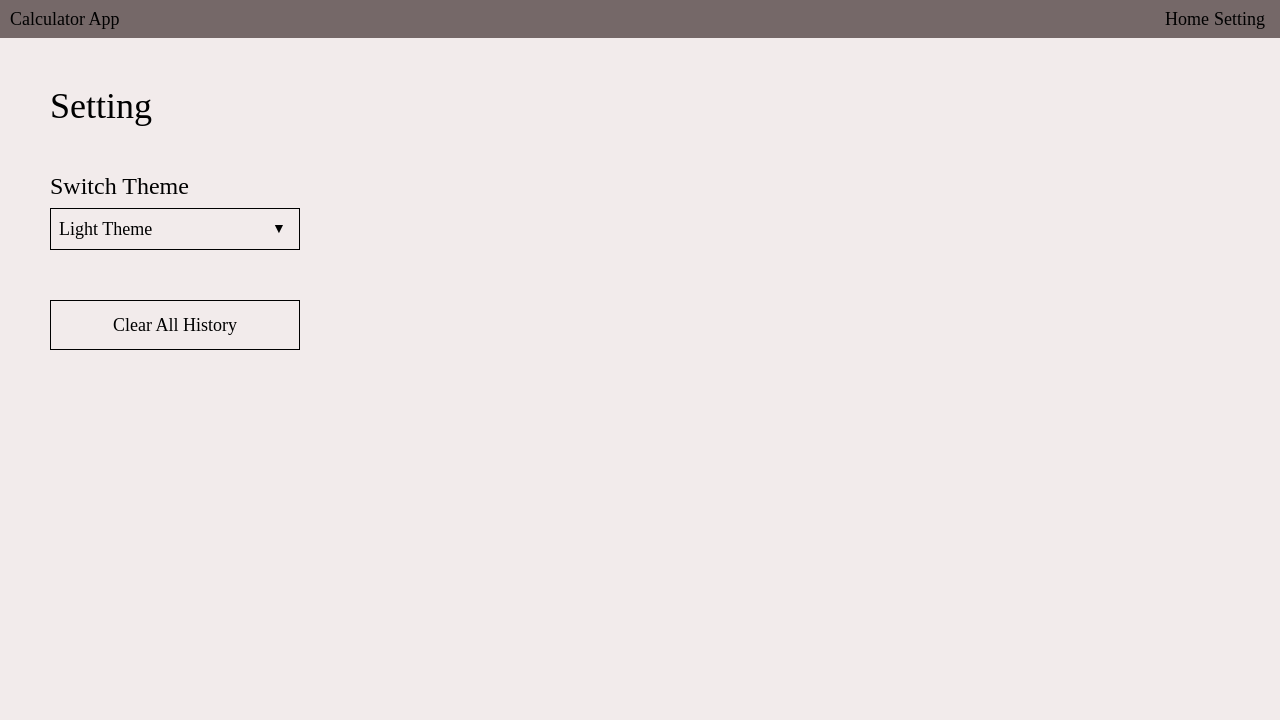
Test Change Themes › should change Themes
Click the text "Light Theme" at [106, 229], box [59, 219, 152, 239]
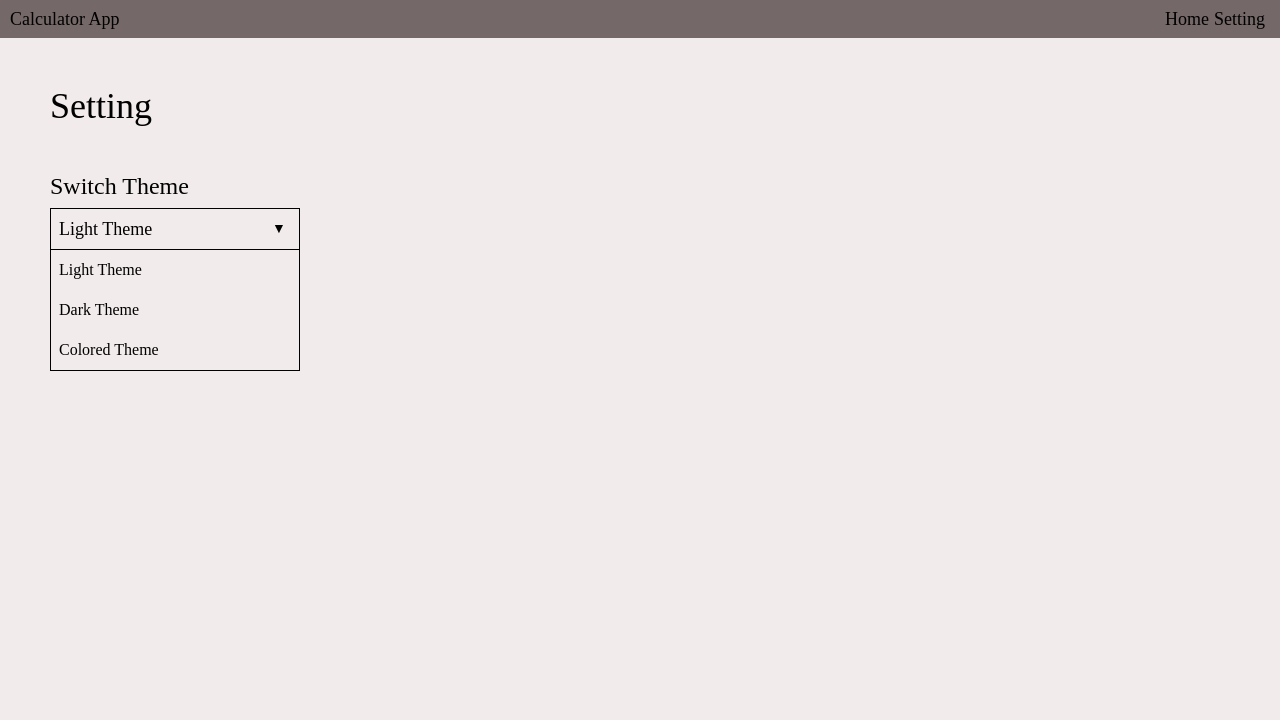
Click the text "Dark Theme" at [175, 310], box [51, 290, 299, 330]
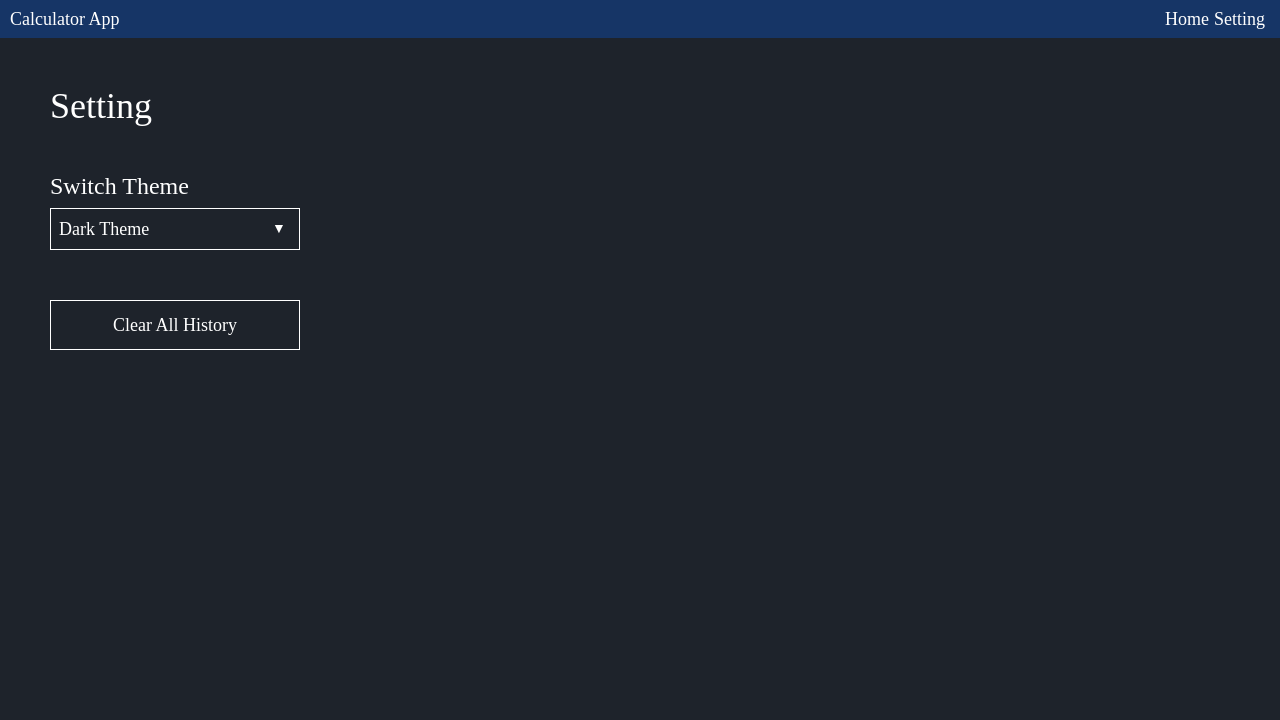
Expected: the text "Dark Theme" is shown
Click the text "Dark Theme" at [104, 229], box [59, 219, 149, 239]
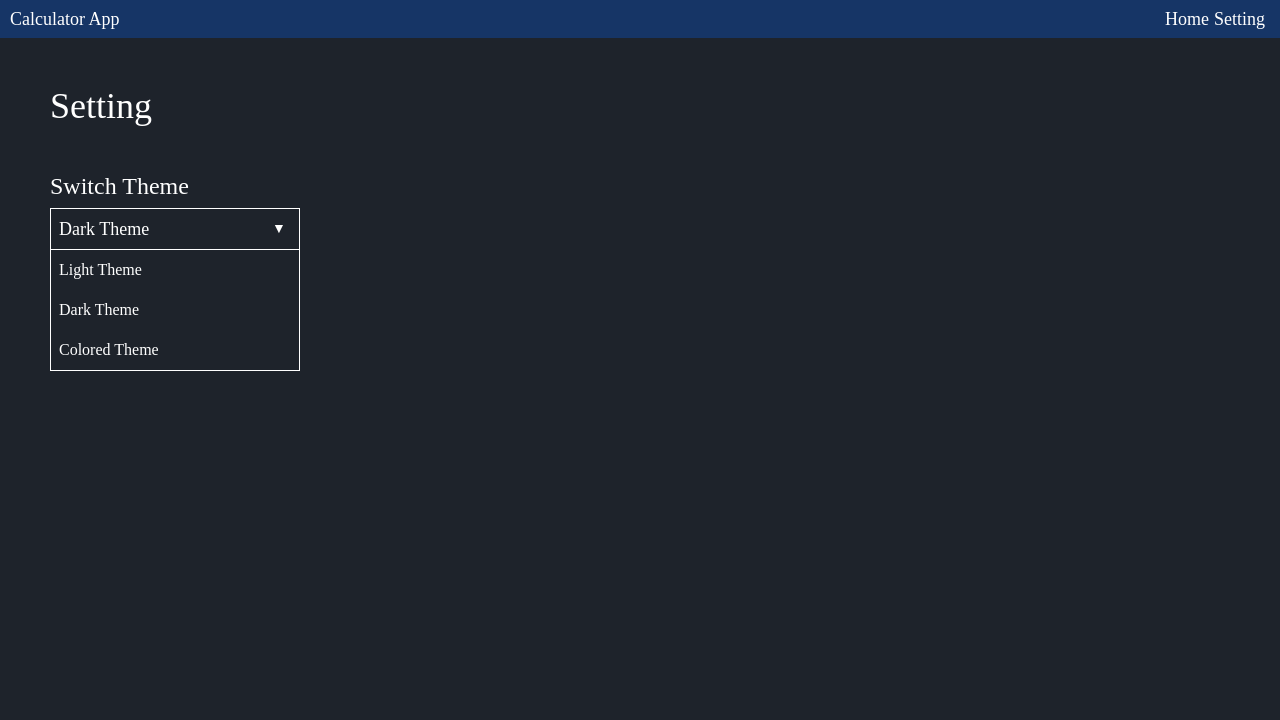
Click the text "Colored Theme" at [175, 350], box [51, 330, 299, 370]
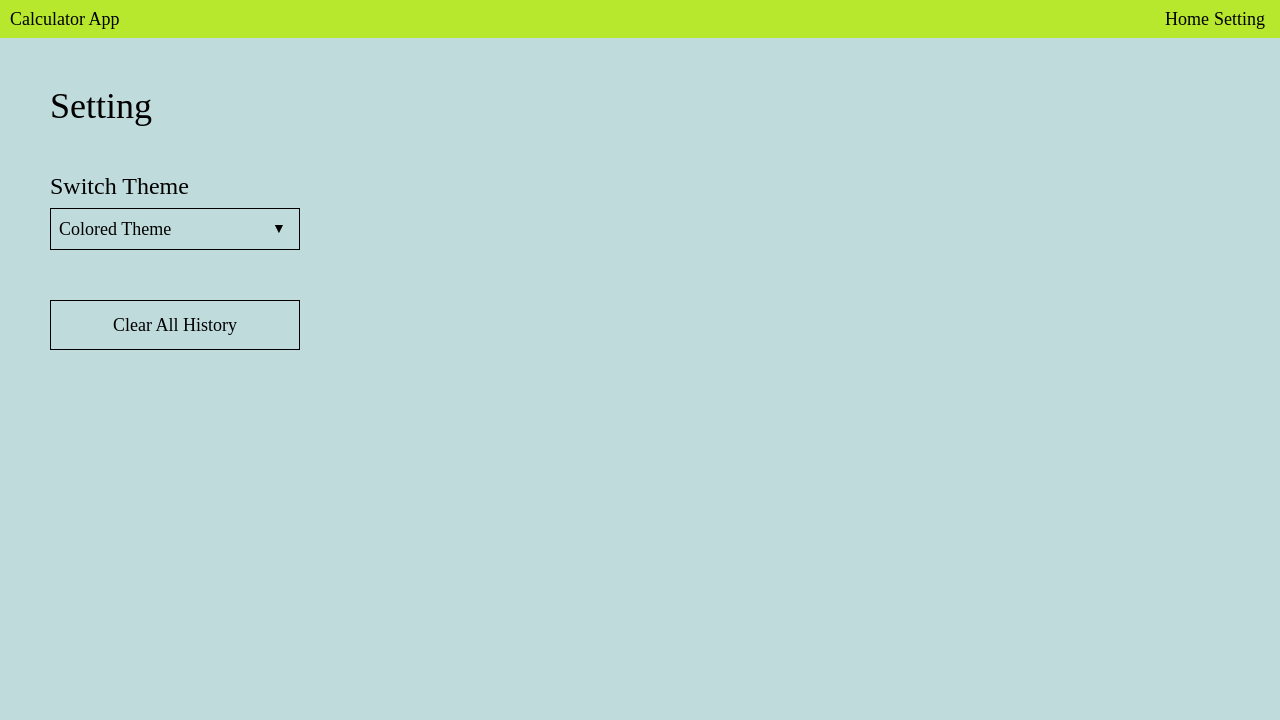
Expected: the text "Colored Theme" is shown
Click the text "Colored Theme" at [115, 229], box [59, 219, 171, 239]
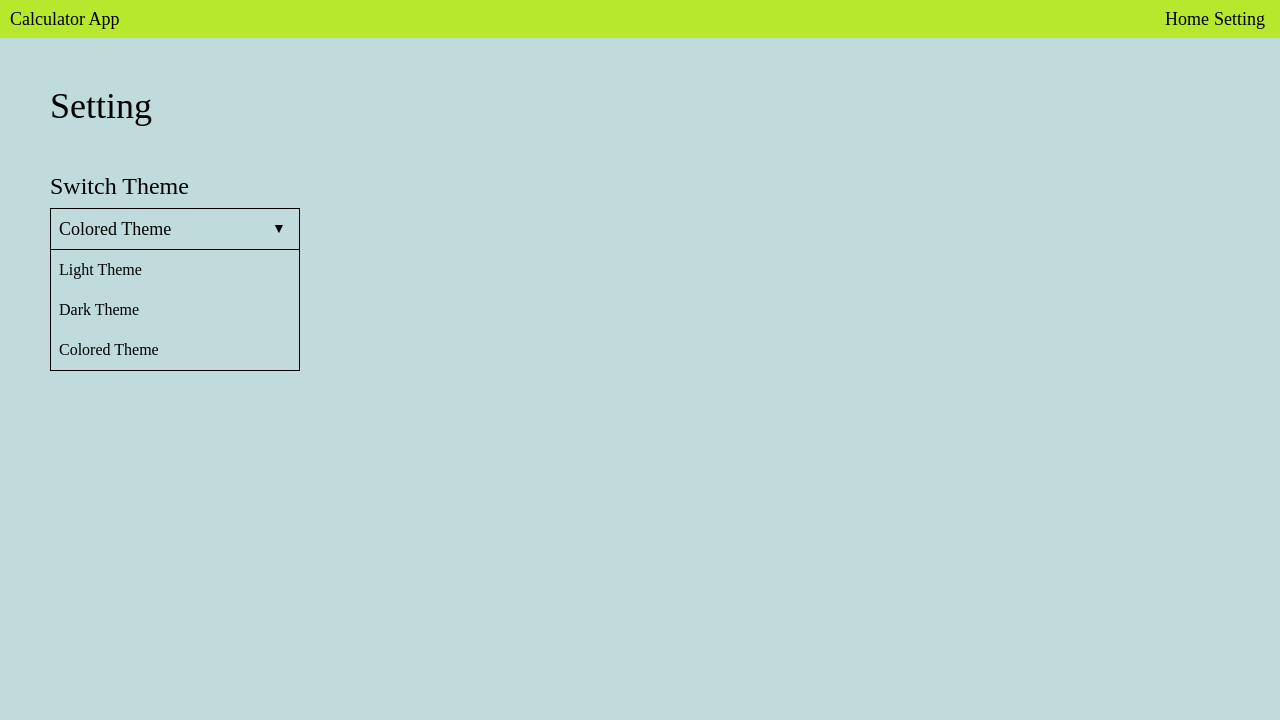
Click the text "Light Theme" at [175, 270], box [51, 250, 299, 290]
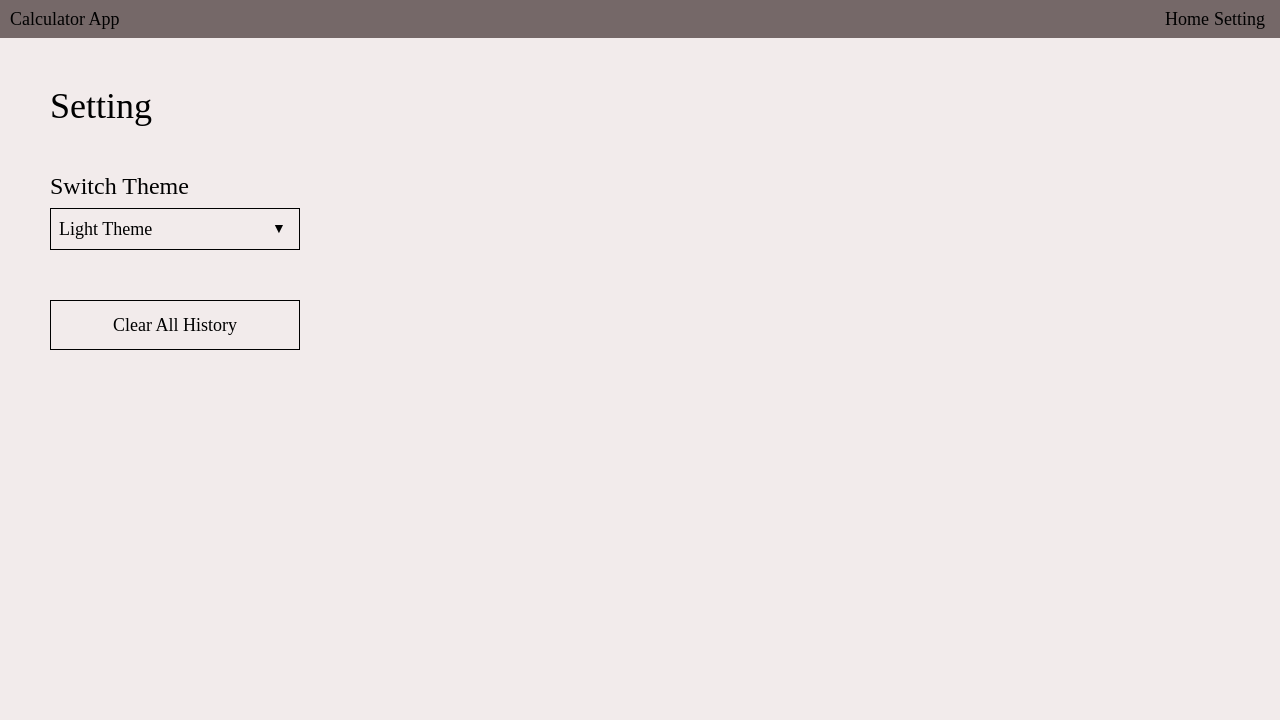
Expected: the text "Light Theme" is shown, [59, 219, 152, 239]
